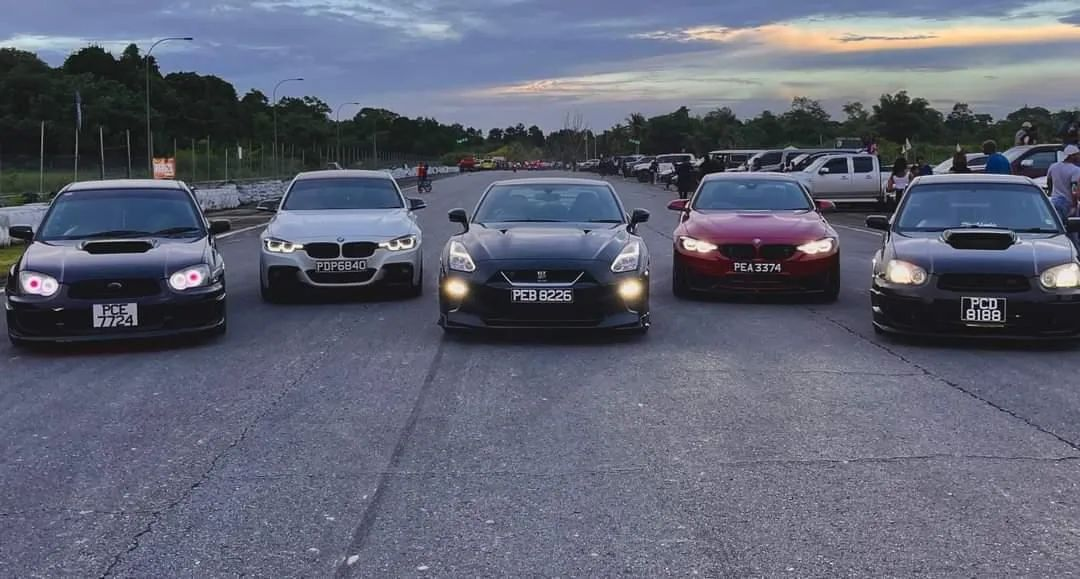License-Plate: (92, 303, 136, 328), (962, 296, 1005, 320), (511, 288, 572, 302), (314, 259, 365, 271), (732, 261, 781, 272)
